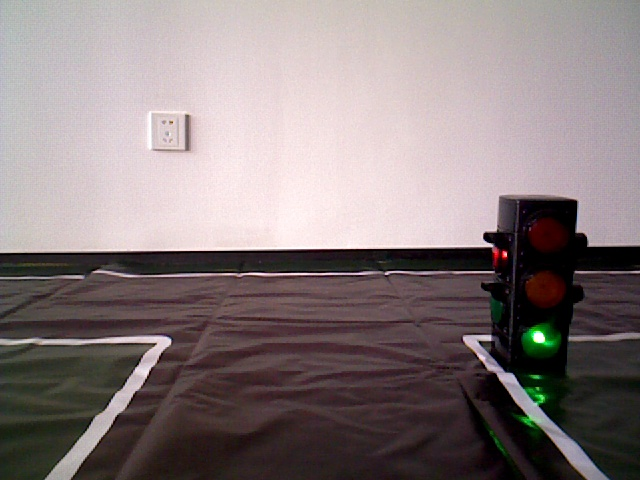green: (499, 201, 568, 363)
